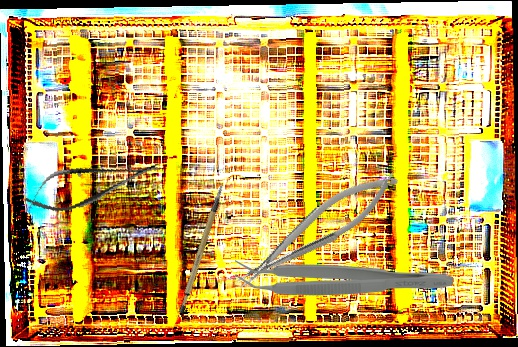Micro Scissor: (19, 147, 167, 221)
Needle Holder: (224, 161, 409, 297)
Scalpel Handle: (161, 183, 245, 315)
Tissue Forceps: (235, 258, 453, 296)
